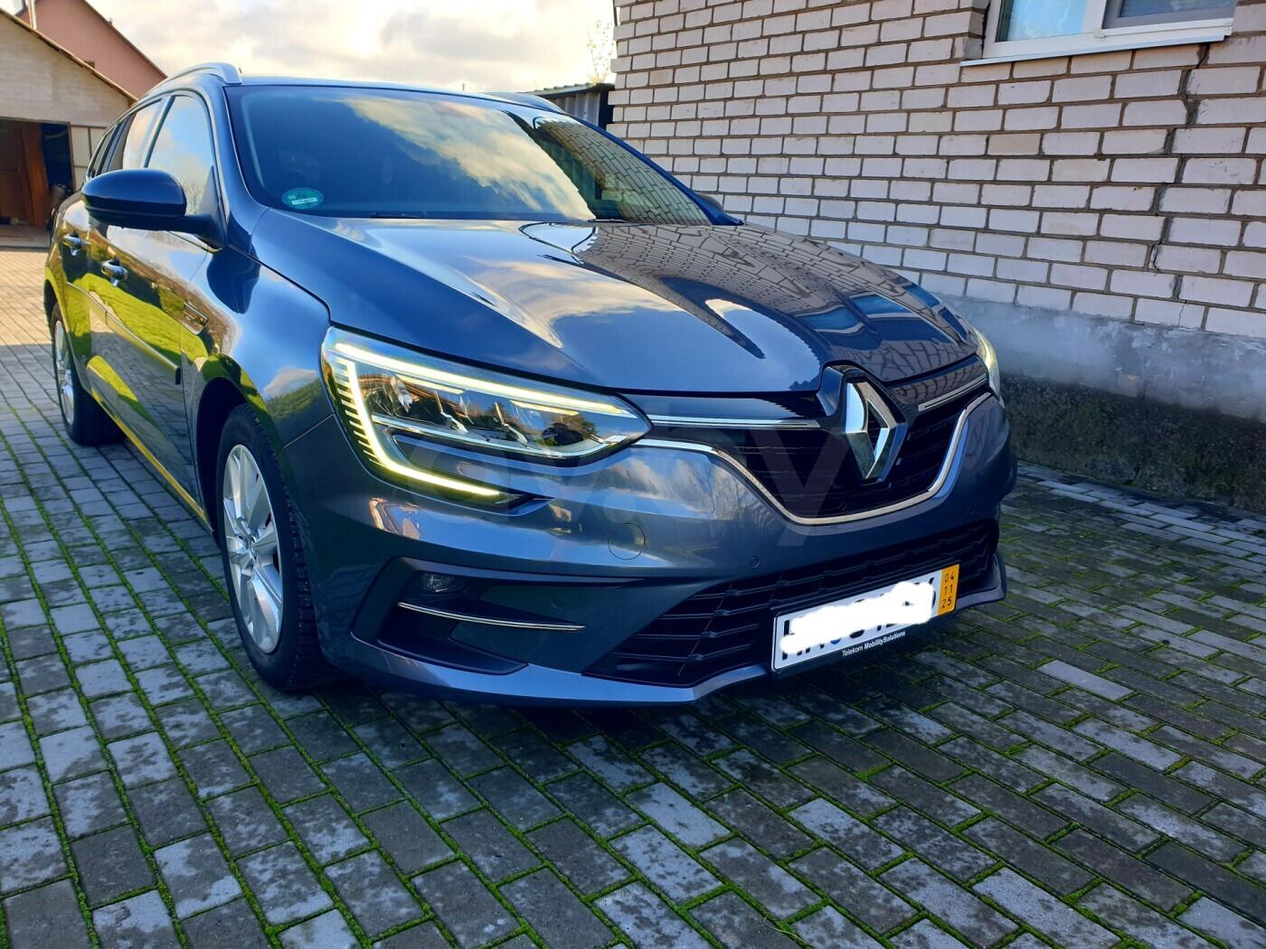Megane_2020: (39, 57, 1026, 730)
